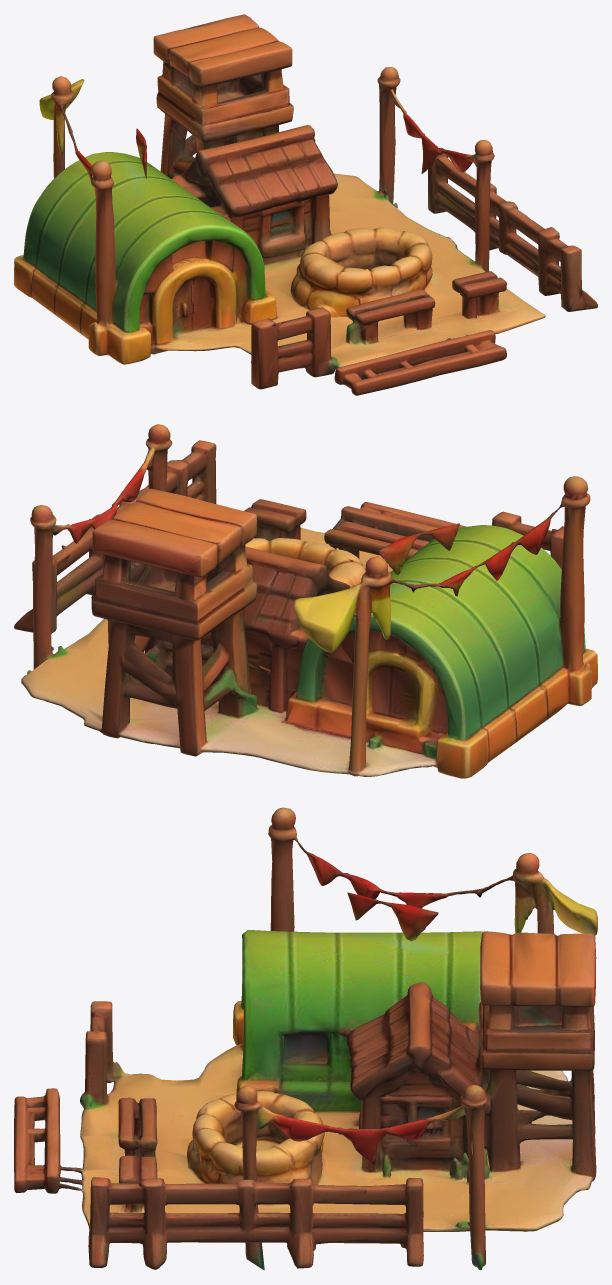
Rendered from barracks.glb.
3 renders of one model, top to bottom at view 1: azimuth 30°, elevation 25°; view 2: azimuth 150°, elevation 25°; view 3: azimuth 270°, elevation 25°, orthographic. The views are drawn at different scales.
Size of the model in its own units: 2 by 0.9441 by 2.
Materials: 1 (1 with a texture image).
